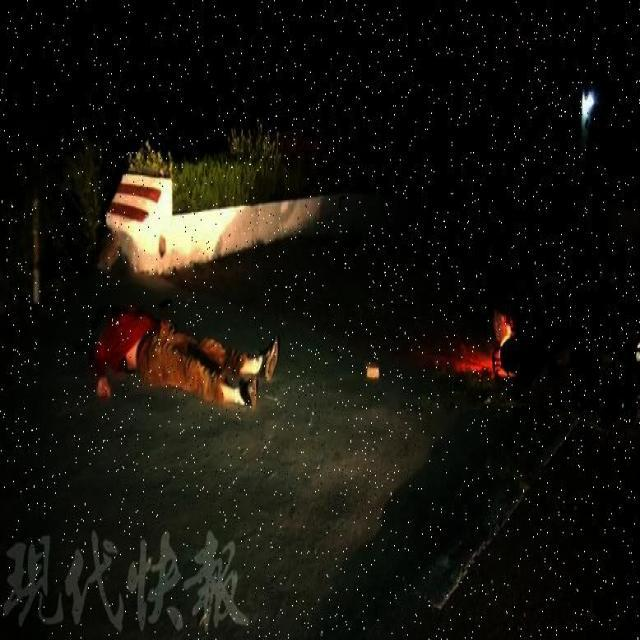fall: (79, 300, 280, 420)
